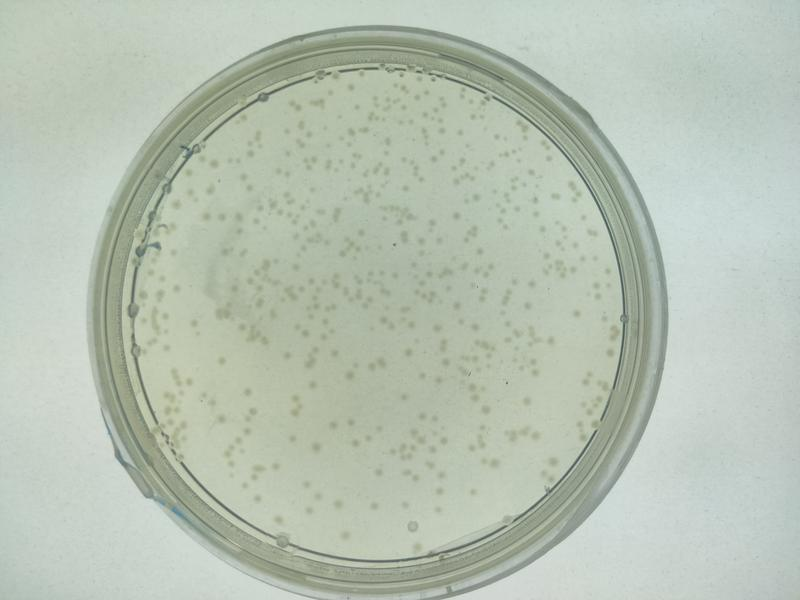colony: (361, 460, 389, 491), (567, 303, 592, 335), (324, 491, 353, 517), (305, 439, 330, 463), (317, 412, 341, 437), (424, 315, 449, 338), (477, 396, 500, 421), (209, 347, 233, 369), (520, 273, 543, 295), (268, 453, 289, 476), (236, 383, 260, 403), (516, 389, 538, 409), (336, 368, 360, 386), (389, 388, 416, 404), (283, 426, 303, 447), (277, 346, 297, 367), (184, 310, 206, 329), (399, 339, 417, 362), (325, 343, 345, 363), (449, 206, 469, 226), (197, 205, 216, 226), (351, 224, 372, 243), (366, 496, 384, 517), (235, 167, 254, 186), (342, 413, 362, 431), (394, 493, 414, 511), (432, 483, 451, 501), (169, 278, 184, 298), (472, 242, 489, 259), (395, 180, 413, 196), (664, 357, 674, 363)
